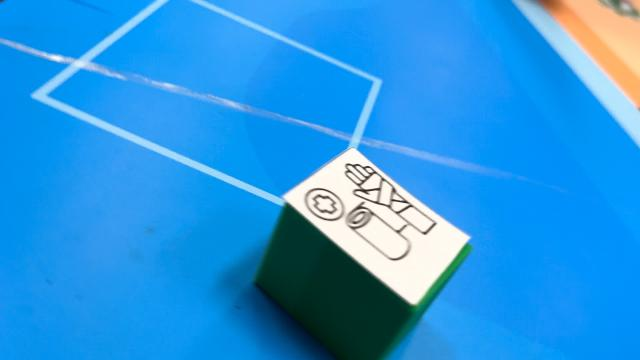bandage: (252, 147, 473, 359)
